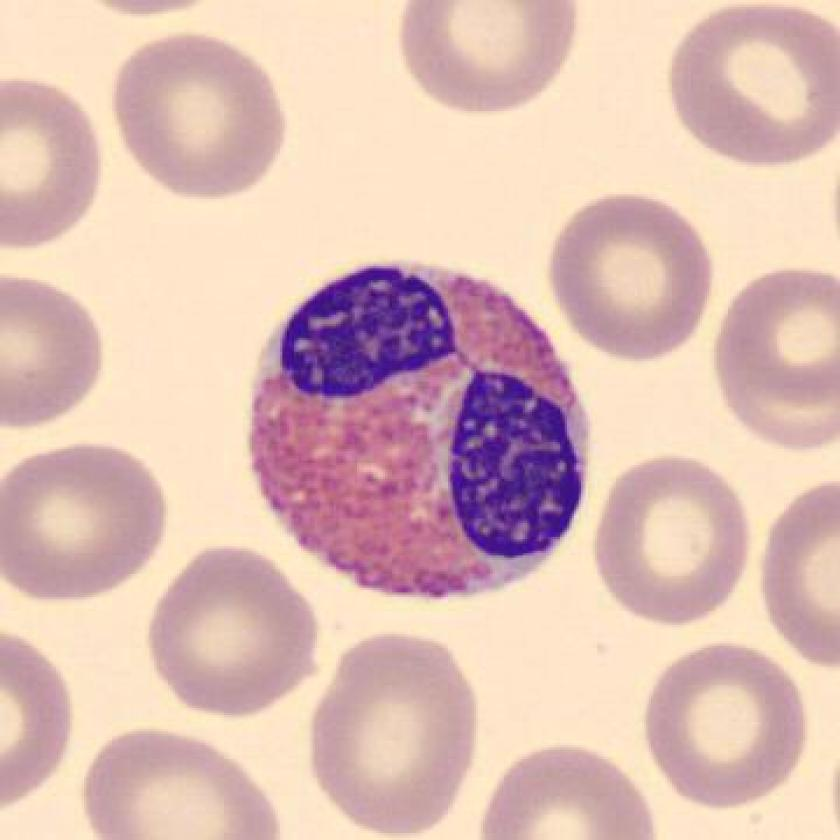eosinophil: (237, 247, 608, 608)
